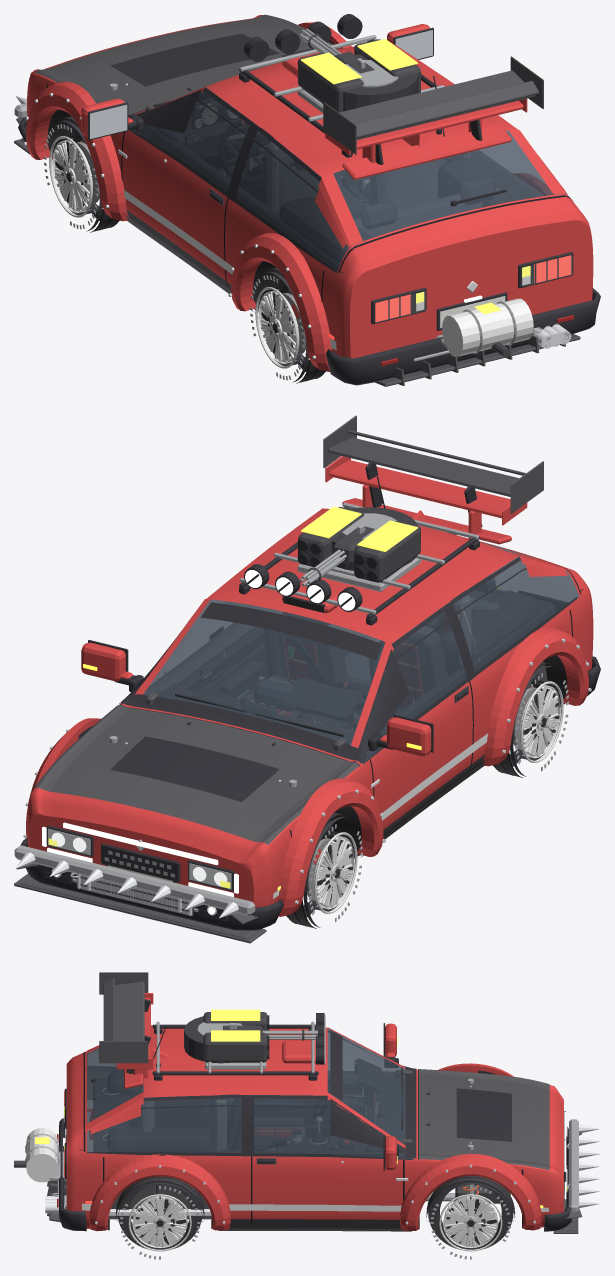
3 views of the same model, one above another, from view 1: azimuth 30°, elevation 25°; view 2: azimuth 150°, elevation 25°; view 3: azimuth 270°, elevation 25° (orthographic). The views are drawn at different scales.
Parts seen in each view (by area): view 1: BODY, PART_flares_widebody, PART_hood_carbon, PART_spoiler_gt, MESH_DRIVER_WINDOW, PART_roof_rack, PART_weapon_rockets, PART_weapon_oil, PART_hood_vent, PART_spoiler_lip, PART_spoiler_wing, PART_aero_r_diffuser (+9 smaller); view 2: BODY, PART_hood_carbon, PART_flares_widebody, PART_spoiler_gt, PART_weapon_rockets, PART_hood_vent, PART_roof_rack, MESH_DRIVER_WINDOW, PART_spoiler_wing, PART_weapon_spikes, WHEEL_FL, PART_aero_f_lip (+10 smaller); view 3: BODY, PART_flares_widebody, PART_hood_carbon, PART_spoiler_gt, PART_weapon_rockets, PART_roof_rack, PART_hood_vent, WHEEL_FR, WHEEL_RR, PART_weapon_oil, PART_weapon_spikes, PART_skirt_aero (+15 smaller).
Part boxes in pixels (bbox=[...]): BODY: bbox=[18, 15, 600, 385]; PART_flares_widebody: bbox=[23, 22, 553, 371]; PART_hood_carbon: bbox=[34, 14, 339, 115]; PART_spoiler_gt: bbox=[323, 56, 543, 164]; MESH_DRIVER_WINDOW: bbox=[130, 87, 264, 203]; PART_roof_rack: bbox=[239, 14, 444, 157]; PART_weapon_rockets: bbox=[297, 39, 420, 112]; PART_weapon_oil: bbox=[436, 298, 533, 357]; PART_hood_vent: bbox=[110, 33, 279, 86]; PART_spoiler_lip: bbox=[342, 125, 511, 179]; PART_spoiler_wing: bbox=[325, 98, 527, 162]; PART_aero_r_diffuser: bbox=[375, 333, 580, 386]; BODY: bbox=[20, 476, 600, 930]; PART_hood_carbon: bbox=[34, 705, 359, 844]; PART_flares_widebody: bbox=[23, 627, 591, 916]; PART_spoiler_gt: bbox=[323, 415, 543, 526]; PART_weapon_rockets: bbox=[297, 506, 421, 591]; PART_hood_vent: bbox=[110, 736, 279, 801]; PART_roof_rack: bbox=[239, 502, 479, 625]; MESH_DRIVER_WINDOW: bbox=[362, 600, 480, 763]; PART_spoiler_wing: bbox=[325, 456, 527, 539]; PART_weapon_spikes: bbox=[14, 845, 255, 918]; WHEEL_FL: bbox=[286, 812, 362, 928]; PART_aero_f_lip: bbox=[20, 876, 254, 938]; BODY: bbox=[52, 1023, 571, 1231]; PART_flares_widebody: bbox=[89, 1063, 541, 1231]; PART_hood_carbon: bbox=[418, 1069, 549, 1170]; PART_spoiler_gt: bbox=[99, 972, 150, 1073]; PART_weapon_rockets: bbox=[203, 1009, 269, 1069]; PART_roof_rack: bbox=[152, 1013, 325, 1080]; PART_hood_vent: bbox=[456, 1088, 511, 1141]; WHEEL_FR: bbox=[426, 1176, 515, 1259]; WHEEL_RR: bbox=[115, 1176, 204, 1259]; PART_weapon_oil: bbox=[14, 1128, 66, 1182]; PART_weapon_spikes: bbox=[569, 1119, 600, 1213]; PART_skirt_aero: bbox=[219, 1223, 411, 1231].
Bounding box in the file's own units: 2.45 × 1.87 × 4.78.
